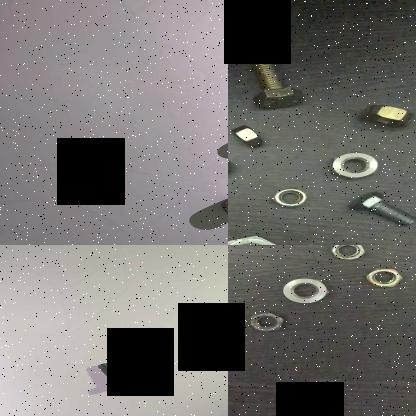Bolts: (230, 55, 312, 111), (341, 186, 416, 230), (96, 362, 136, 394)
NUTS: (359, 100, 413, 136), (278, 272, 332, 304), (325, 150, 381, 180), (266, 182, 314, 210), (228, 121, 269, 151), (242, 310, 284, 334), (359, 266, 403, 288), (325, 245, 367, 262), (218, 194, 228, 218)
